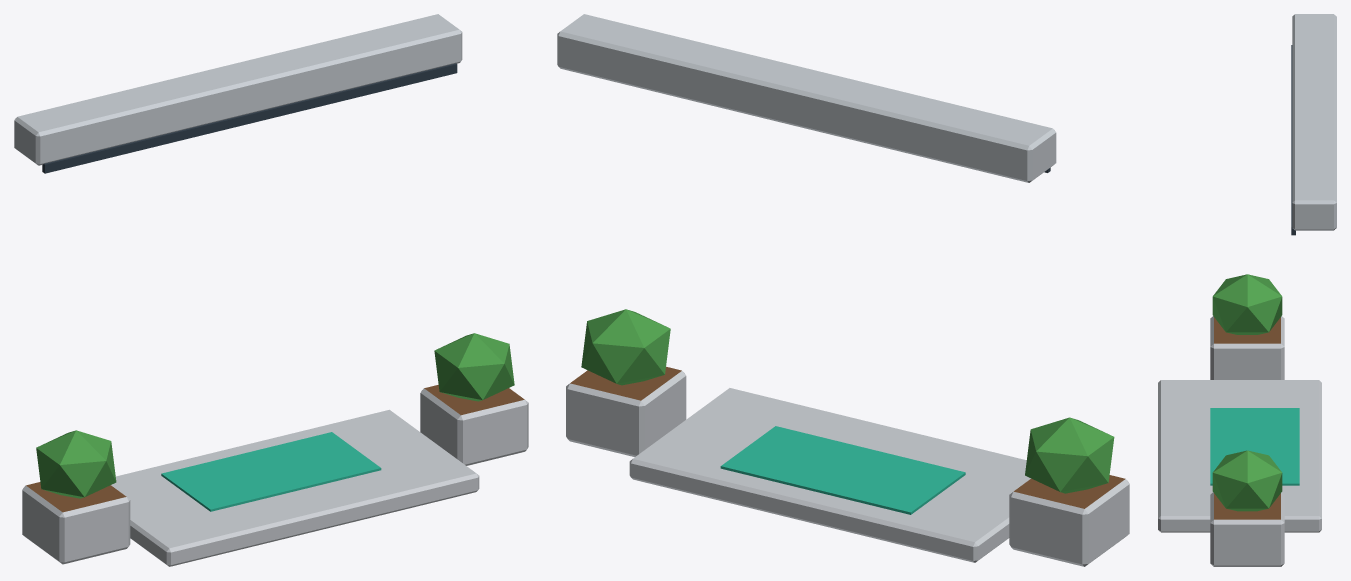
The model's file is entrance.fbx.
3 views of the same model, side by side, from view 1: azimuth 30°, elevation 25°; view 2: azimuth 150°, elevation 25°; view 3: azimuth 270°, elevation 25° (orthographic). The views are drawn at different scales.
Visible parts, largest first — view 1: entrance; view 2: entrance; view 3: entrance.
Part boxes in pixels (x1=…): entrance: x1=14, y1=14, x2=528, y2=566; entrance: x1=557, y1=14, x2=1129, y2=566; entrance: x1=1158, y1=14, x2=1336, y2=566.
Bounding box in the file's own units: 6.6 × 5.3 × 2.4.
